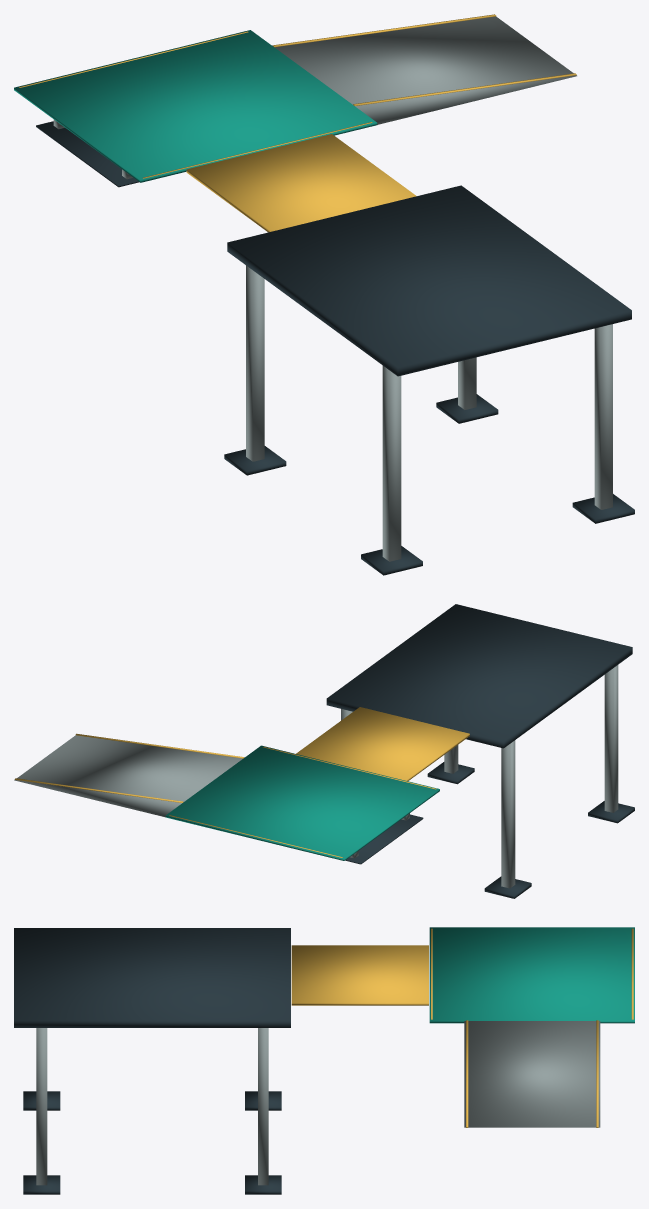
3 views of the same model, one above another, from view 1: azimuth 30°, elevation 25°; view 2: azimuth 150°, elevation 25°; view 3: azimuth 270°, elevation 25° (orthographic). The views are drawn at different scales.
Visible parts, largest first — view 1: external_platform, turn_platform, exit_ramp, door_bridge, ground_leg_0.44_-4.25, ground_leg_0.44_-2.33, ground_leg_2.16_-4.25, floor_spreader, ground_foot_2.16_-2.33, ground_foot_0.44_-2.33, ground_foot_2.16_-4.25, ground_foot_0.44_-4.25 (+1 smaller); view 2: external_platform, turn_platform, exit_ramp, door_bridge, ground_leg_0.44_-2.33, ground_leg_0.44_-4.25, floor_spreader, ground_foot_0.44_-2.33, ground_foot_2.16_-4.25, ground_foot_0.44_-4.25; view 3: external_platform, turn_platform, exit_ramp, door_bridge, ground_leg_2.16_-4.25, ground_leg_2.16_-2.33, ground_foot_2.16_-4.25, ground_foot_2.16_-2.33, ground_foot_0.44_-4.25, ground_foot_0.44_-2.33.
Part boxes in pixels (x1=…): external_platform: x1=227, y1=185, x2=631, y2=376; turn_platform: x1=14, y1=30, x2=377, y2=182; exit_ramp: x1=272, y1=16, x2=576, y2=124; door_bridge: x1=186, y1=134, x2=416, y2=232; ground_leg_0.44_-4.25: x1=382, y1=365, x2=401, y2=561; ground_leg_0.44_-2.33: x1=246, y1=265, x2=264, y2=461; ground_leg_2.16_-4.25: x1=594, y1=324, x2=612, y2=509; floor_spreader: x1=36, y1=121, x2=139, y2=187; ground_foot_2.16_-2.33: x1=436, y1=394, x2=498, y2=423; ground_foot_0.44_-2.33: x1=224, y1=446, x2=286, y2=475; ground_foot_2.16_-4.25: x1=572, y1=494, x2=634, y2=523; ground_foot_0.44_-4.25: x1=361, y1=546, x2=422, y2=575; external_platform: x1=326, y1=604, x2=632, y2=748; turn_platform: x1=165, y1=745, x2=439, y2=860; exit_ramp: x1=14, y1=735, x2=244, y2=817; door_bridge: x1=296, y1=707, x2=469, y2=781; ground_leg_0.44_-2.33: x1=501, y1=740, x2=515, y2=888; ground_leg_0.44_-4.25: x1=604, y1=665, x2=618, y2=812; floor_spreader: x1=345, y1=814, x2=423, y2=864; ground_foot_0.44_-2.33: x1=484, y1=876, x2=531, y2=898; ground_foot_2.16_-4.25: x1=427, y1=762, x2=474, y2=784; ground_foot_0.44_-4.25: x1=588, y1=801, x2=634, y2=823; external_platform: x1=14, y1=928, x2=290, y2=1027; turn_platform: x1=429, y1=927, x2=634, y2=1023; exit_ramp: x1=464, y1=1021, x2=600, y2=1127; door_bridge: x1=291, y1=945, x2=428, y2=1005; ground_leg_2.16_-4.25: x1=36, y1=1028, x2=47, y2=1185; ground_leg_2.16_-2.33: x1=258, y1=1028, x2=268, y2=1185; ground_foot_2.16_-4.25: x1=23, y1=1175, x2=60, y2=1194; ground_foot_2.16_-2.33: x1=245, y1=1175, x2=281, y2=1194; ground_foot_0.44_-4.25: x1=23, y1=1091, x2=60, y2=1110; ground_foot_0.44_-2.33: x1=245, y1=1091, x2=281, y2=1110.
Bounding box in the file's own units: 3.78 × 5.38 × 1.64.
